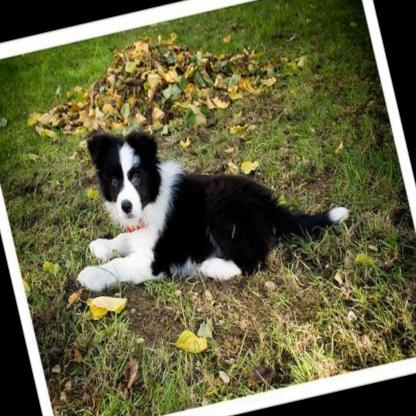Border_collie: (41, 76, 357, 316)
